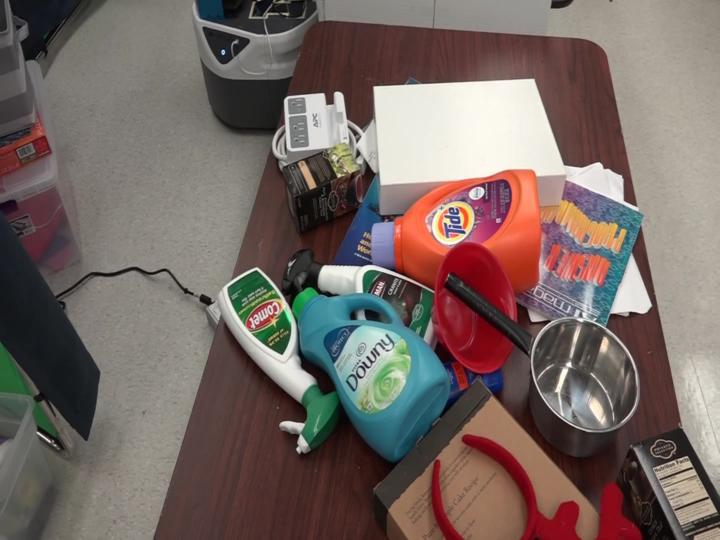downy: (269, 270, 474, 478)
